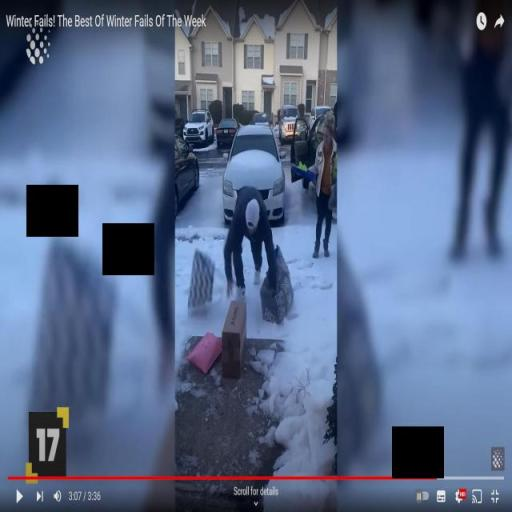Fall: (220, 180, 281, 307)
